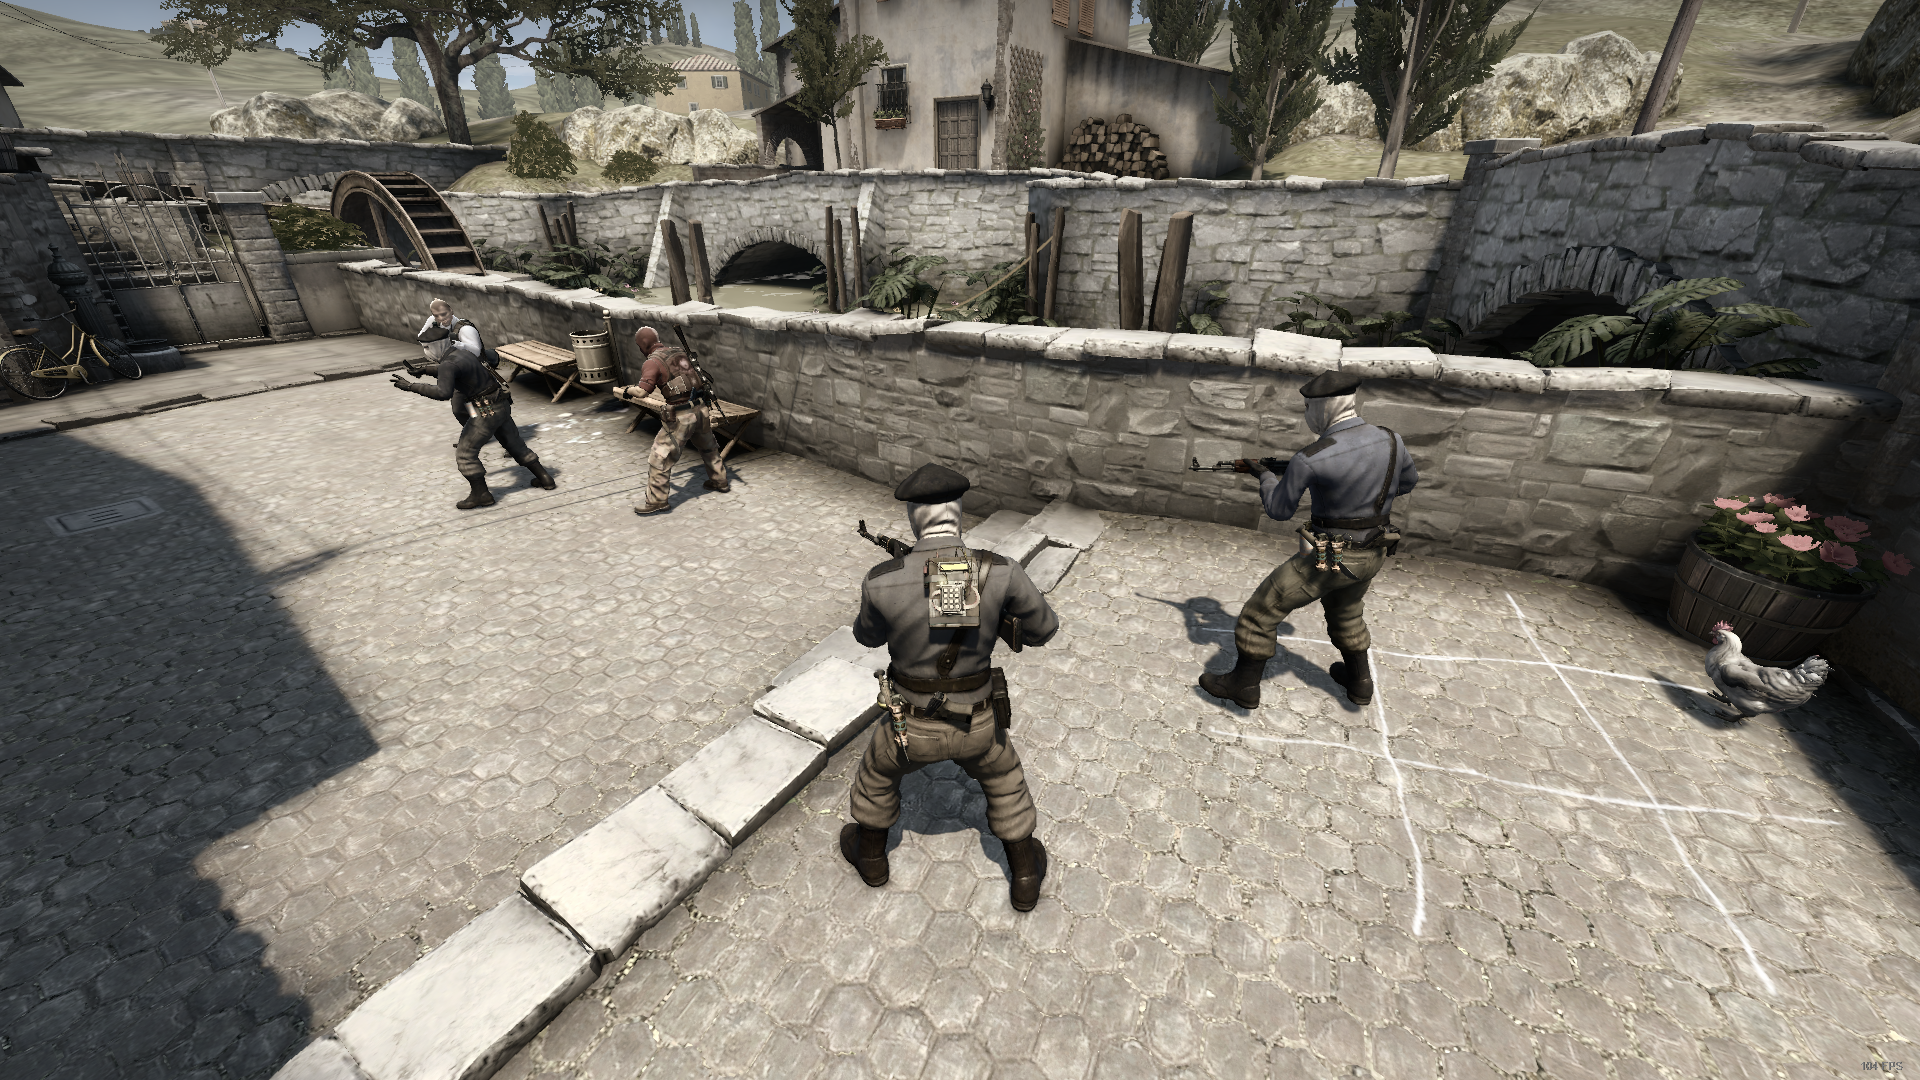t: (829, 451, 1077, 928), (1200, 367, 1422, 732)
